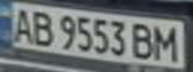3: (109, 18, 130, 57)
5: (90, 16, 112, 55), (72, 15, 93, 53)
9: (54, 11, 78, 51)
A: (6, 5, 39, 44)
B: (27, 8, 57, 47), (130, 20, 157, 61)
M: (151, 23, 184, 62)
